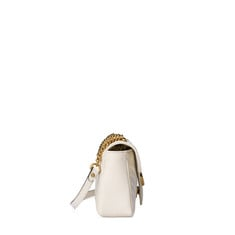Gucci: (73, 122, 164, 227)
